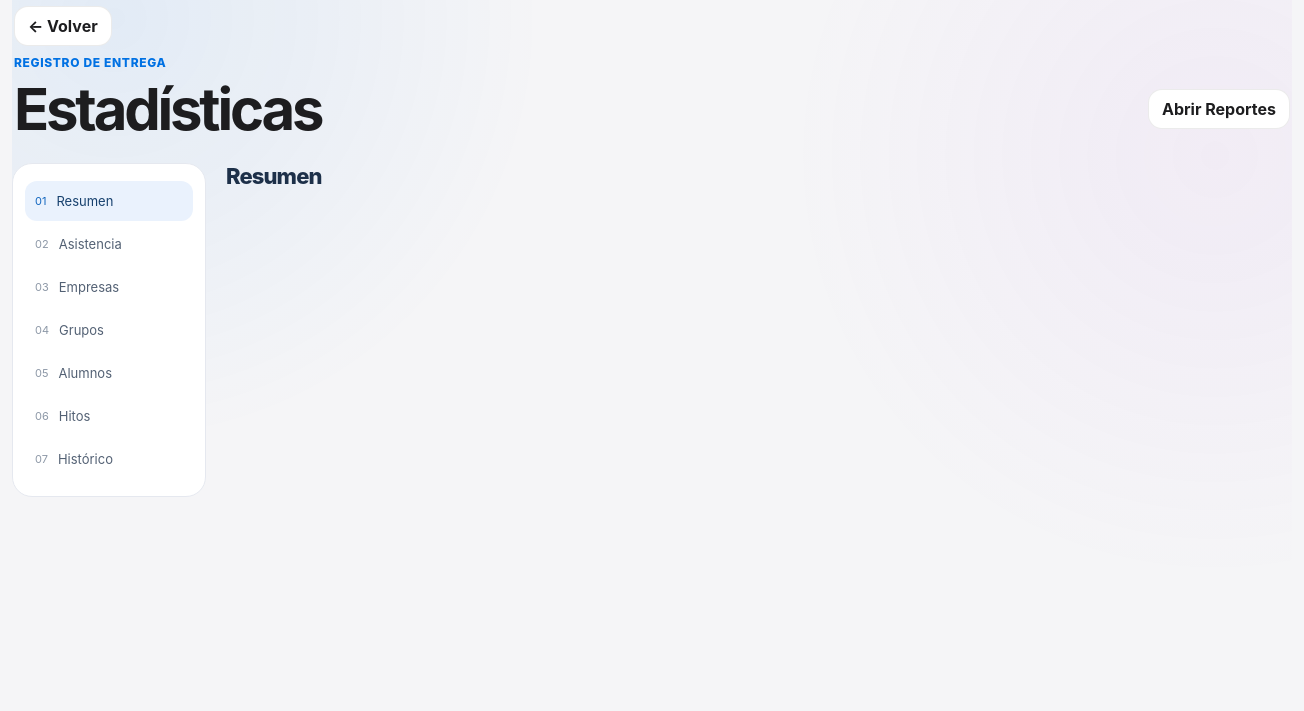
Test case: v0.58.2 · vista Hitos de Registro Dual › la sección Hitos permanece disponible en la web de escritorio
Click the button "06 Hitos": x=109, y=416 [25,396,193,436]
(page scrolled)
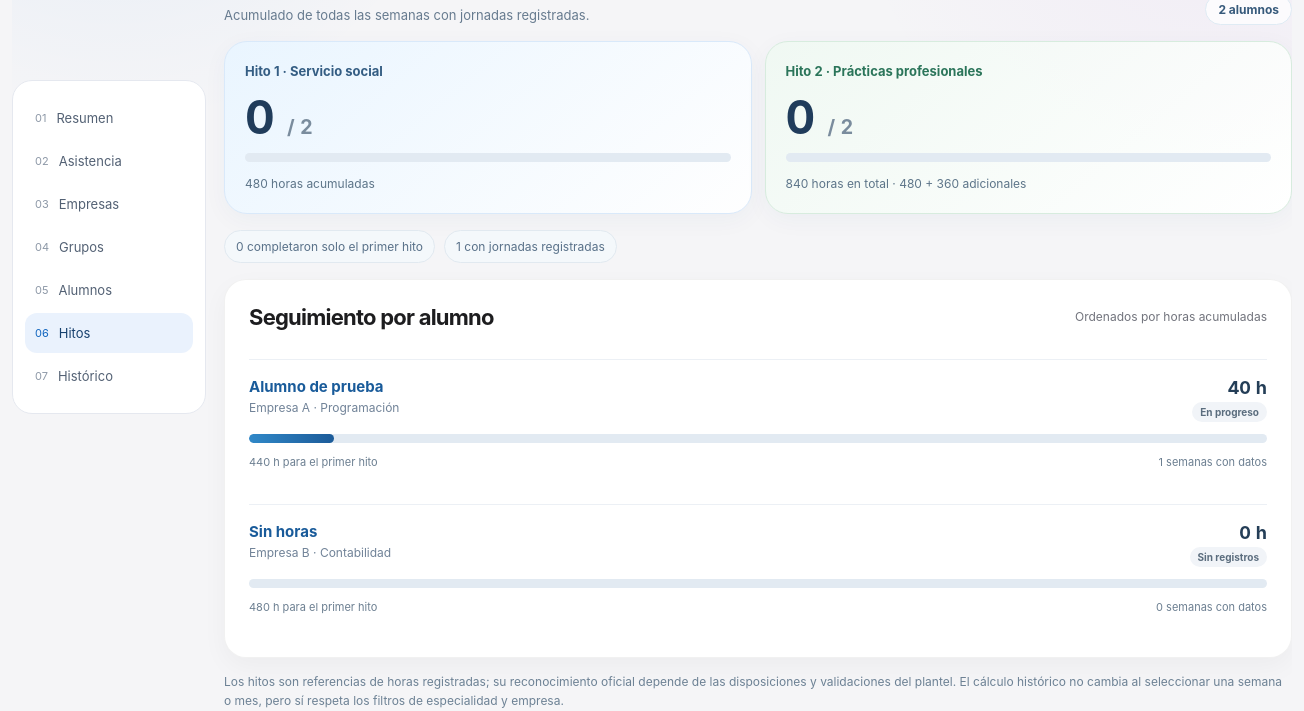
expect the text "reconocimiento oficial depende" is shown: met, box [224,674,1282,708]
